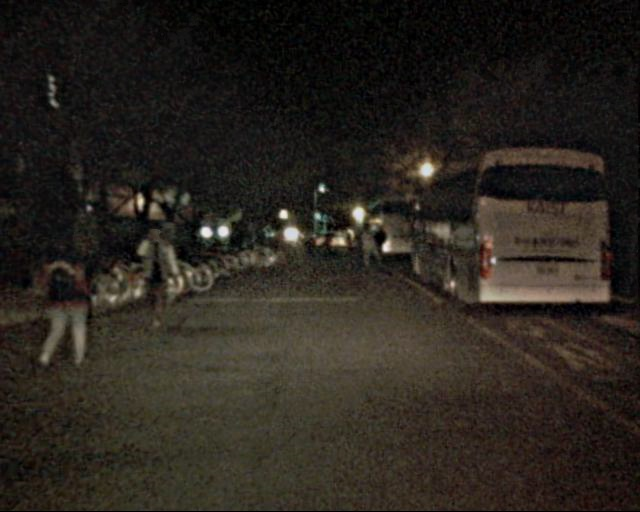person: (37, 228, 106, 369), (133, 222, 179, 330), (371, 227, 389, 270), (360, 228, 377, 269), (351, 226, 365, 261)
